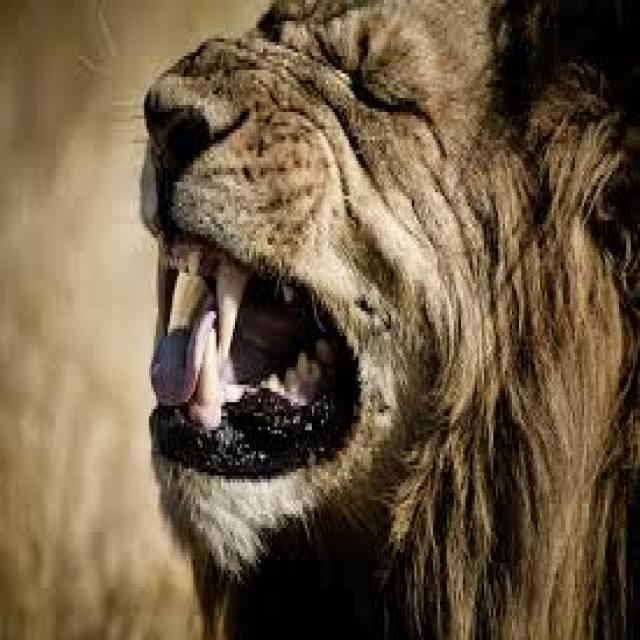Lion: (136, 0, 638, 637)
